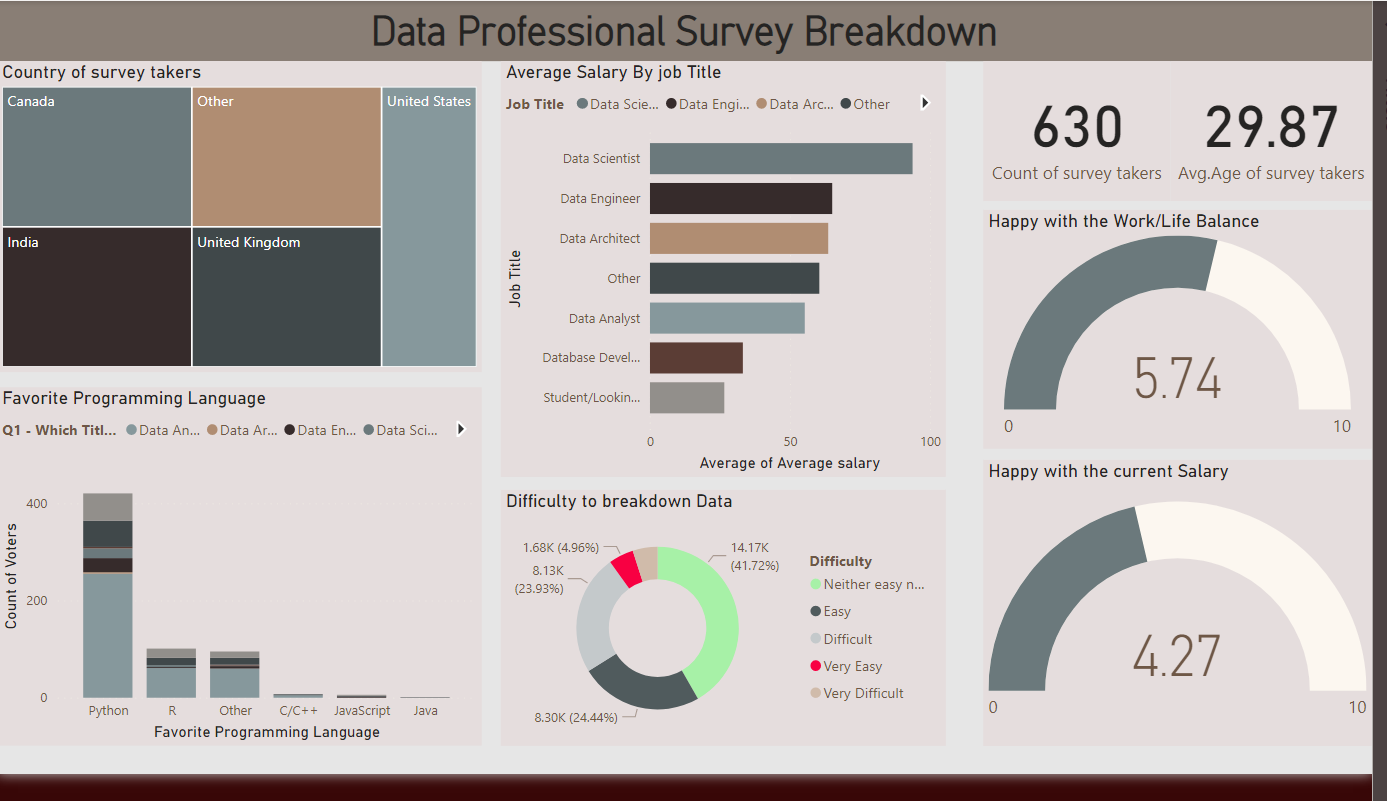

Layout of this report page (visuals, bound fields, positions):
{"tool":"powerbi","page":{"name":"Page 1","canvas":[1280,720],"ordinal":0},"visuals":[{"type":"textbox","box":[0,0,1280,55.9],"z":0},{"type":"card","fields":{"Values":["CountNonNull(Data Professional Survey.Unique ID)"]},"box":[918.1,55.9,174.5,130.3],"z":1000},{"type":"card","fields":{"Values":["Avg(Data Professional Survey.Q10 - Current Age)"]},"box":[1092.7,55.9,187.3,130.3],"z":2000},{"type":"barChart","title":"Average Salary By job Title","fields":{"Category":["Data Professional Survey.Q1 - Which Title Best Fits your Current Role?.1"],"Y":["Avg(Data Professional Survey.Average salary )"],"Series":["Data Professional Survey.Q1 - Which Title Best Fits your Current Role?.1"]},"box":[468.9,55.9,414.3,387.5],"z":3000},{"type":"columnChart","title":"Favorite Programming Language","fields":{"Category":["Data Professional Survey.Q5 - Favorite Programming Language.1"],"Y":["CountNonNull(Data Professional Survey.Unique ID)"],"Series":["Data Professional Survey.Q1 - Which Title Best Fits your Current Role?.1"]},"box":[0,359.6,451.5,334],"z":4000},{"type":"treemap","title":"Country of survey takers","fields":{"Group":["Data Professional Survey.Q11 - Which Country do you live in?.1"],"Values":["Count(Data Professional Survey.Q11 - Which Country do you live in?.1)"]},"box":[0,55.9,451.5,289.7],"z":5000},{"type":"gauge","title":"Happy  with the Work/Life Balance","fields":{"Y":["Avg(Data Professional Survey.Q6 - How Happy are you in your Current Position with the following? (Work/Life Balance))"],"MinValue":["Min(Data Professional Survey.Q6 - How Happy are you in your Current Position with the following? (Work/Life Balance))"],"MaxValue":["Max(Data Professional Survey.Q6 - How Happy are you in your Current Position with the following? (Work/Life Balance))1"]},"box":[918.1,194.3,361.9,222.3],"z":6000},{"type":"gauge","title":"Happy with the current Salary ","fields":{"Y":["Avg(Data Professional Survey.Q6 - How Happy are you in your Current Position with the following? (Salary))"],"MinValue":["Min(Data Professional Survey.Q6 - How Happy are you in your Current Position with the following? (Salary))"],"MaxValue":["Max(Data Professional Survey.Q6 - How Happy are you in your Current Position with the following? (Salary))1"]},"box":[918.1,427.1,361.9,266.5],"z":7000},{"type":"donutChart","title":"Difficulty to breakdown Data","fields":{"Y":["Sum(Data Professional Survey.Average salary )"],"Category":["Data Professional Survey.Q7 - How difficult was it for you to break into Data?"]},"box":[468.9,455,414.3,238.5],"z":8000},{"type":"textbox","box":[0,693.5,142,26.8],"z":8001}]}

Visuals, with their boxes in screenshot pixels (x1, y1, x2, y2), scaled from the page's 1280x720 canvas onto the 1387x801 screenshot:
textbox: Rect(0, 0, 1386, 62)
card - CountNonNull(Data Professional Survey.Unique ID): Rect(995, 62, 1184, 207)
card - Avg(Data Professional Survey.Q10 - Current Age): Rect(1184, 62, 1386, 207)
"Average Salary By job Title" barChart: Rect(508, 62, 957, 493)
"Favorite Programming Language" columnChart: Rect(0, 400, 489, 772)
"Country of survey takers" treemap: Rect(0, 62, 489, 384)
"Happy  with the Work/Life Balance" gauge: Rect(995, 216, 1386, 463)
"Happy with the current Salary " gauge: Rect(995, 475, 1386, 772)
"Difficulty to breakdown Data" donutChart: Rect(508, 506, 957, 772)
textbox: Rect(0, 772, 154, 800)
